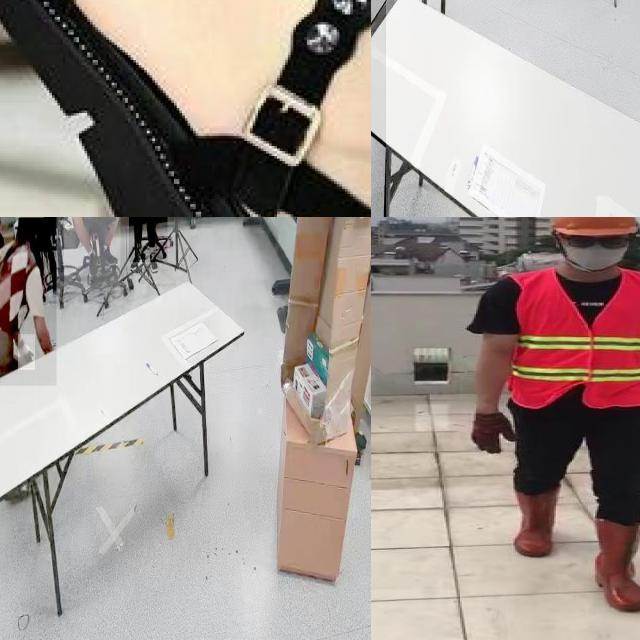Sandals: (0, 0, 371, 217)
boots: (593, 519, 640, 612), (514, 484, 560, 558)
hand_glove: (18, 334, 36, 371)
head_helmet: (548, 217, 640, 237)
person: (464, 217, 640, 618), (0, 217, 57, 386), (64, 217, 121, 294), (129, 217, 168, 263)
vest: (509, 273, 640, 411)
